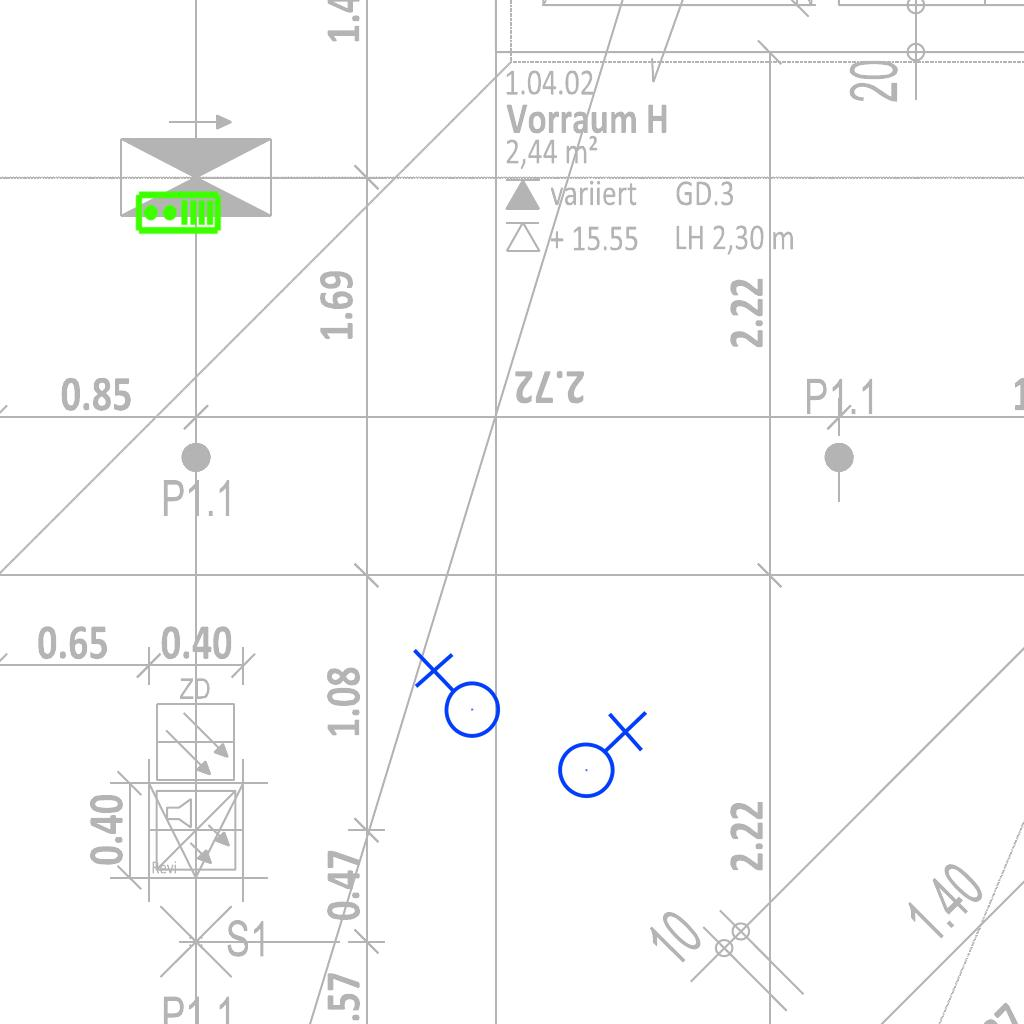Elektroanschluss_allgemein_230V_Geraeteanschlussdose_230V: (408, 648, 502, 747), (549, 706, 648, 800)
Gegensprechanlage_mit_Video: (134, 190, 222, 237)
